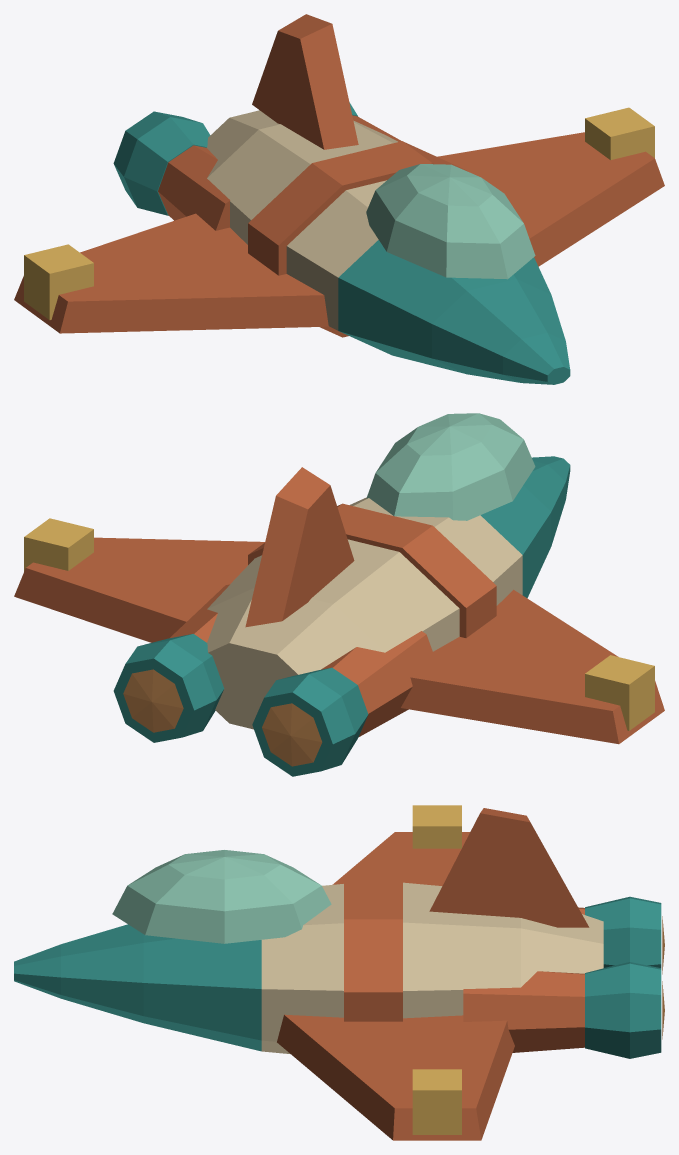
The model's file is skiff.gltf.
3 renders of one model, top to bottom at view 1: azimuth 30°, elevation 25°; view 2: azimuth 150°, elevation 25°; view 3: azimuth 270°, elevation 25°, orthographic. The views are drawn at different scales.
Visible parts, largest first — view 1: body, wings, canopy, thrusters, fin; view 2: wings, body, thrusters, canopy, fin; view 3: body, wings, thrusters, canopy, fin.
Part boxes in pixels (x1=…): body: x1=207, y1=110, x2=570, y2=384; wings: x1=14, y1=107, x2=664, y2=333; canopy: x1=366, y1=164, x2=535, y2=279; thrusters: x1=113, y1=102, x2=401, y2=230; fin: x1=252, y1=14, x2=358, y2=149; wings: x1=14, y1=518, x2=664, y2=744; body: x1=207, y1=456, x2=570, y2=729; thrusters: x1=113, y1=584, x2=436, y2=776; canopy: x1=366, y1=413, x2=535, y2=520; fin: x1=245, y1=467, x2=354, y2=627; body: x1=14, y1=877, x2=603, y2=1053; wings: x1=277, y1=805, x2=514, y2=1140; thrusters: x1=463, y1=896, x2=664, y2=1058; canopy: x1=112, y1=850, x2=331, y2=943; fin: x1=429, y1=808, x2=589, y2=927.
Size of the model in its own units: 4.8 by 1.88 by 4.64.
